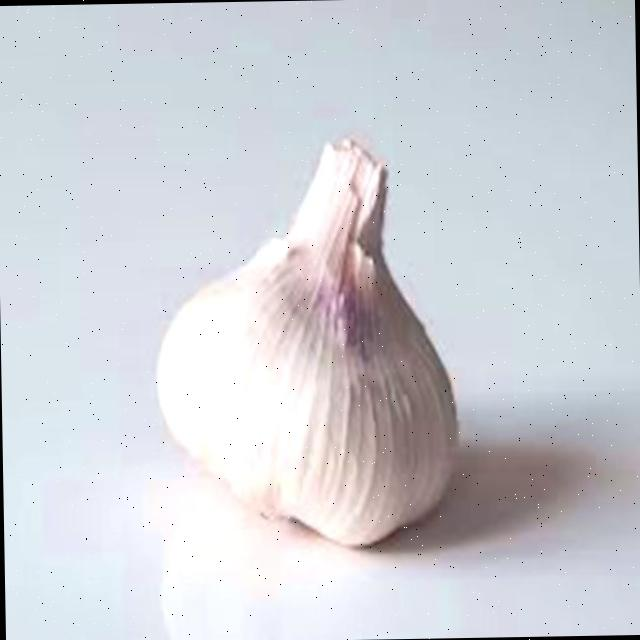garlic: (156, 138, 457, 544)
